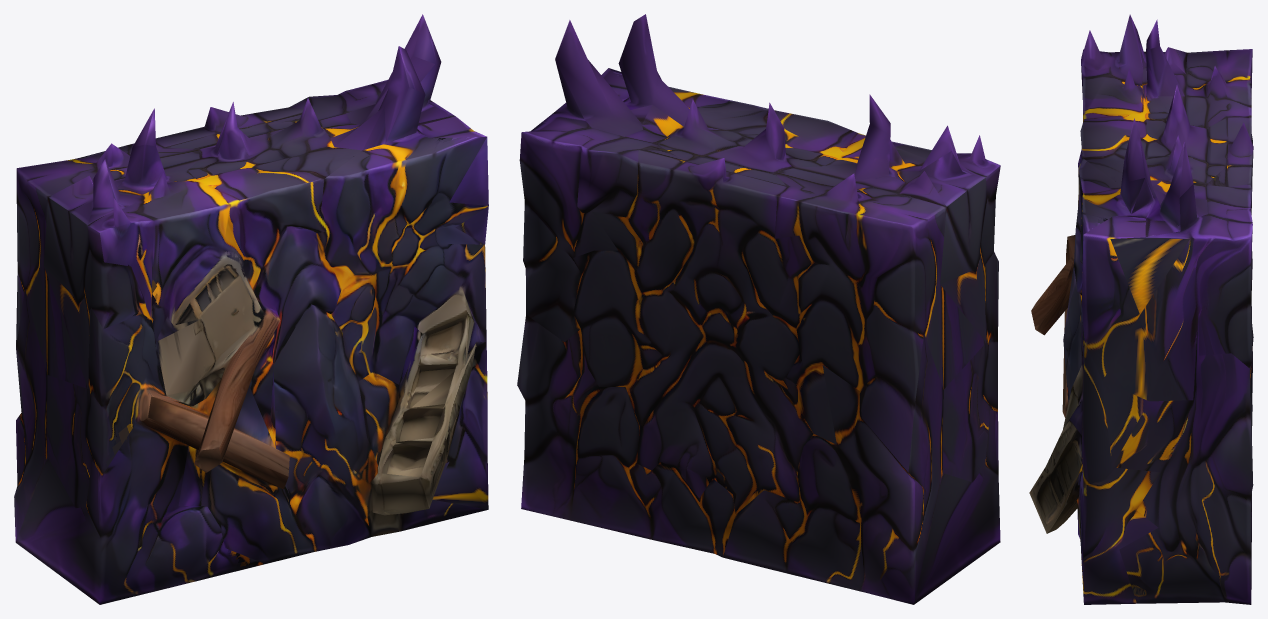
Rendered from HV_WallSeg.fbx.
3 renders of one model, left to right at view 1: azimuth 30°, elevation 25°; view 2: azimuth 150°, elevation 25°; view 3: azimuth 270°, elevation 25°, orthographic. The views are drawn at different scales.
Parts seen in each view (by area): view 1: model; view 2: model; view 3: model.
Part boxes in pixels (left/top/right/bottom): model: left=14, top=14, right=488, bottom=604; model: left=517, top=14, right=1000, bottom=604; model: left=1029, top=14, right=1253, bottom=604.
Size of the model in its own units: 16 by 8 by 18.
Materials: 1 (1 with a texture image).
